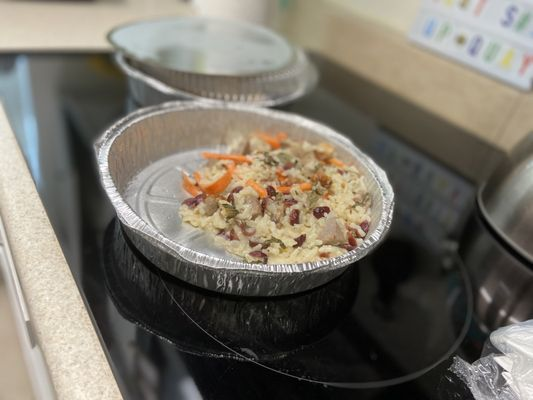sushi: (95, 100, 395, 359), (108, 17, 321, 113)
